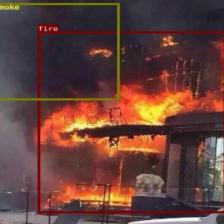fire: (37, 31, 224, 213)
smoke: (0, 2, 119, 100)
